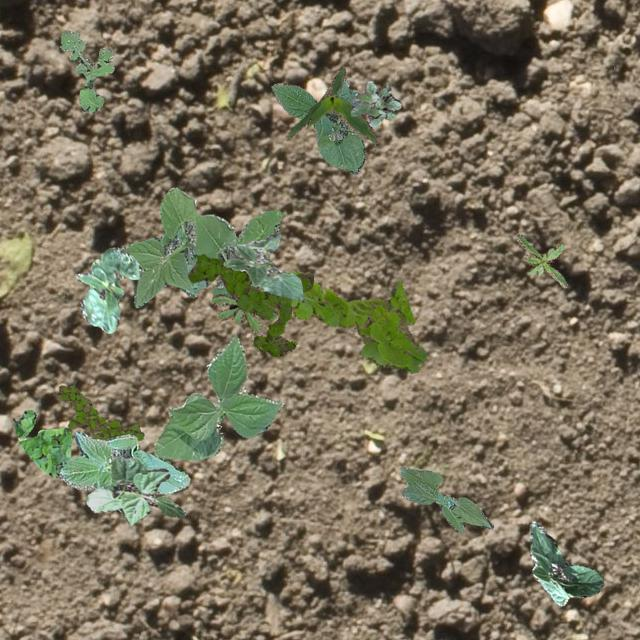crop: (154, 336, 282, 460), (270, 78, 364, 174), (59, 430, 190, 492), (284, 66, 378, 144), (84, 454, 184, 524), (528, 520, 602, 604), (398, 466, 492, 532), (76, 246, 140, 332), (227, 232, 303, 300)
weed: (120, 186, 282, 306), (284, 268, 426, 372), (186, 252, 312, 356), (54, 384, 142, 440), (60, 30, 114, 111), (13, 408, 70, 476), (210, 280, 276, 332), (514, 234, 566, 286), (350, 80, 400, 126)
